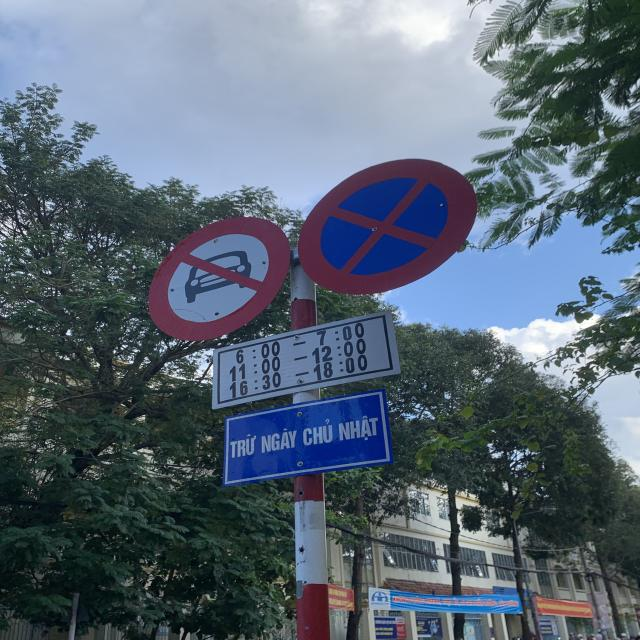Cam_Dung_Va_Dau_Xe: (296, 158, 478, 297)
Cam_O_To: (149, 218, 288, 341)
